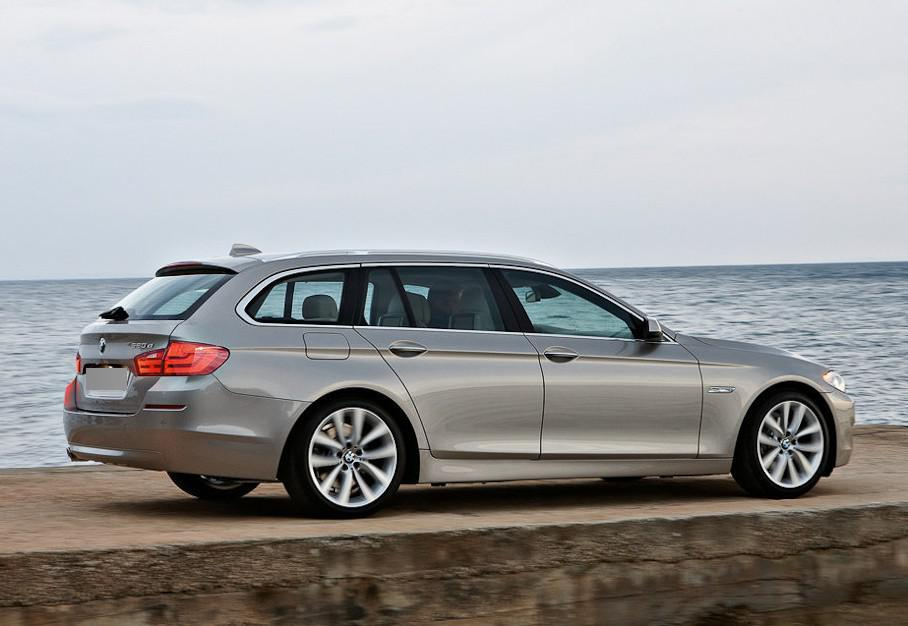Wagon: (62, 243, 856, 521)
